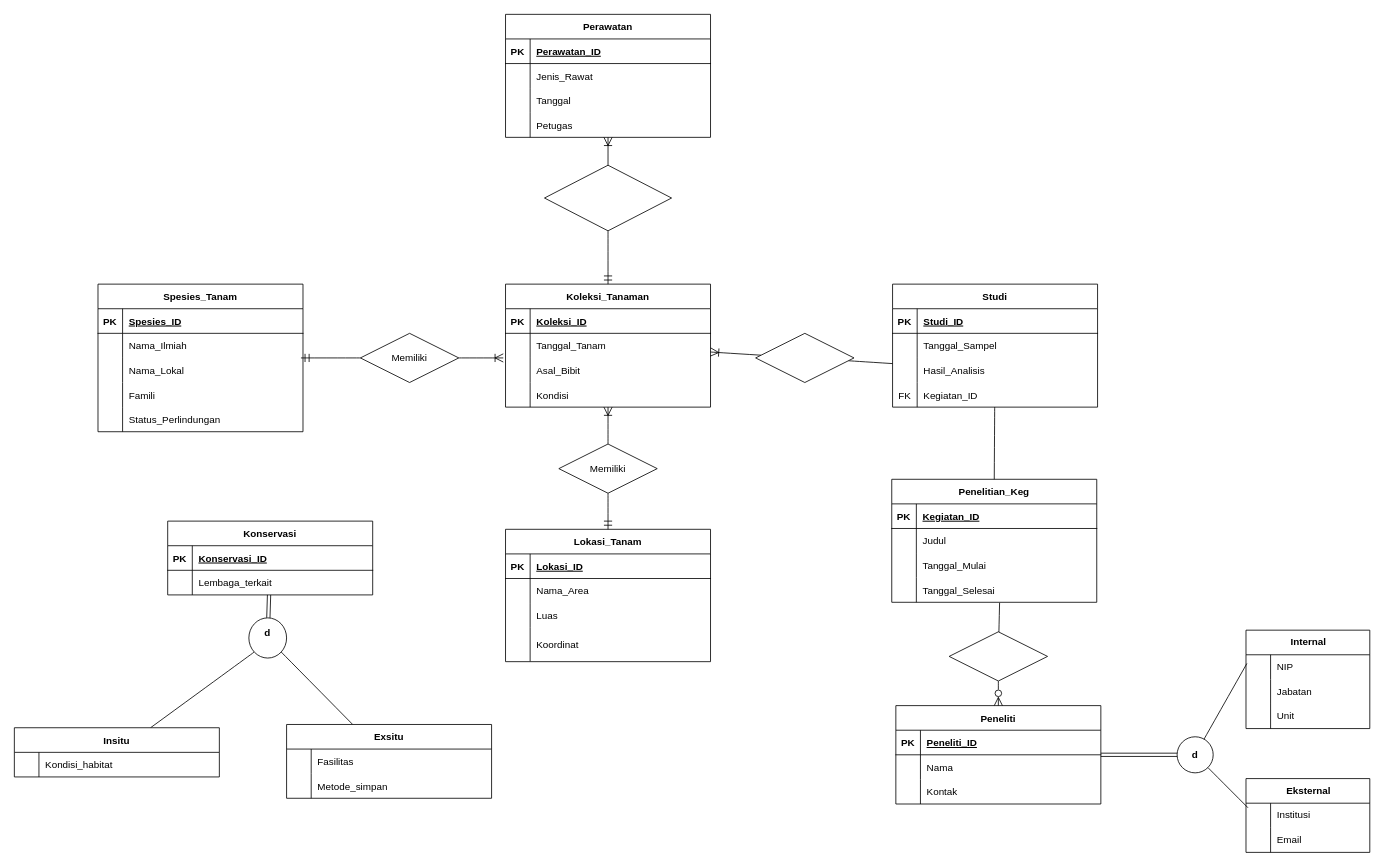
Some shapes in this 1384 by 867 pixel diagram are drawn without their labels. The centre of each missing label's shape, as x and y in pixels:
"Dilakukan per tahun" goes at (x=608, y=197).
"Melibatkan" goes at (x=998, y=656).
"Mempelajari" goes at (x=804, y=358).
